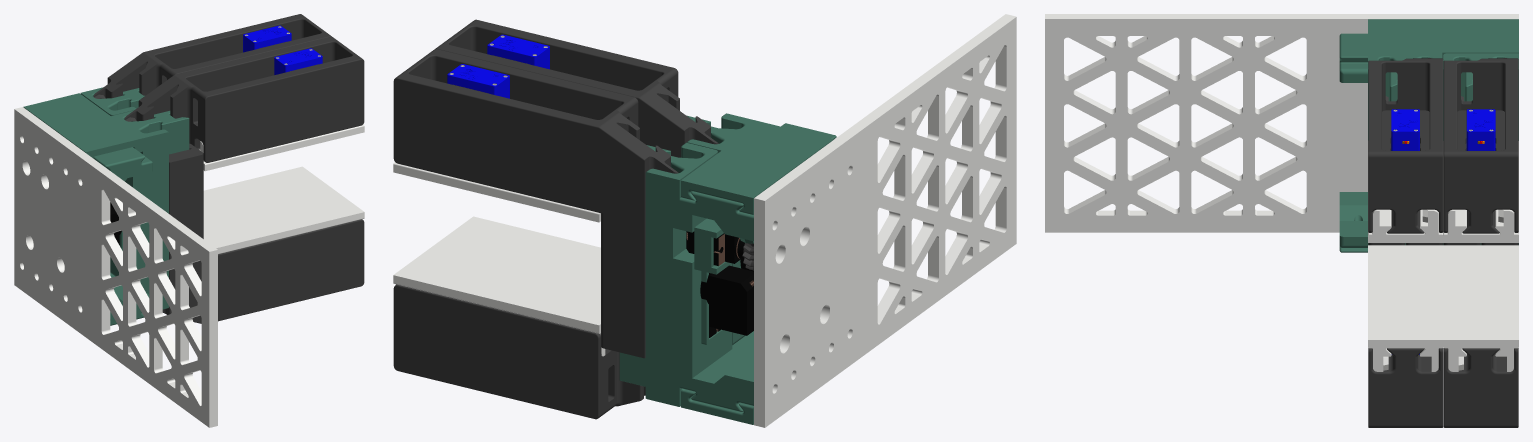
The model's file is gripper.glb.
The picture shows the model from 3 angles, left to right: view 1: azimuth 30°, elevation 25°; view 2: azimuth 150°, elevation 25°; view 3: azimuth 270°, elevation 25°; orthographic projection. The views are drawn at different scales.
Visible parts, largest first — view 1: Component67:1 (×3), Backplate + Wiring & Camera Mount:1, Component110:1, finger tip:3, finger tip:1, Bottom Gripper Rail:1, SG90 - Micro Servo 9g - Tower Pro.1_Pea:1 (×2), finger tip:4; view 2: Component67:1 (×3), Backplate + Wiring & Camera Mount:1, Bottom Gripper Rail:1, Component110:1, finger tip:1, finger tip:3, ServoBody:1 (×2), SG90 - Micro Servo 9g - Tower Pro.1_Pea:1 (×2), finger tip:2; view 3: Backplate + Wiring & Camera Mount:1, Component67:1 (×4), finger tip:3, finger tip:1, Component110:1, Bottom Gripper Rail:1, SG90 - Micro Servo 9g - Tower Pro.1_Pea:1 (×2), finger tip:2, finger tip:4.
Part boxes in pixels (left/top/right/bottom): Component67:1 (×3): left=93, top=14, right=364, bottom=323; Backplate + Wiring & Camera Mount:1: left=14, top=107, right=217, bottom=427; Component110:1: left=23, top=93, right=189, bottom=312; finger tip:3: left=203, top=189, right=364, bottom=254; finger tip:1: left=203, top=166, right=332, bottom=220; Bottom Gripper Rail:1: left=80, top=87, right=152, bottom=325; SG90 - Micro Servo 9g - Tower Pro.1_Pea:1 (×2): left=243, top=25, right=322, bottom=74; finger tip:4: left=199, top=124, right=364, bottom=171; Component67:1 (×3): left=393, top=19, right=718, bottom=419; Backplate + Wiring & Camera Mount:1: left=754, top=14, right=1016, bottom=427; Bottom Gripper Rail:1: left=619, top=123, right=836, bottom=411; Component110:1: left=681, top=113, right=833, bottom=424; finger tip:1: left=393, top=246, right=605, bottom=356; finger tip:3: left=433, top=216, right=600, bottom=286; ServoBody:1 (×2): left=686, top=231, right=753, bottom=337; SG90 - Micro Servo 9g - Tower Pro.1_Pea:1 (×2): left=447, top=34, right=549, bottom=98; finger tip:2: left=393, top=162, right=600, bottom=222; Backplate + Wiring & Camera Mount:1: left=1045, top=14, right=1518, bottom=232; Component67:1 (×4): left=1368, top=58, right=1518, bottom=427; finger tip:3: left=1368, top=245, right=1443, bottom=371; finger tip:1: left=1443, top=245, right=1518, bottom=371; Component110:1: left=1368, top=19, right=1518, bottom=245; Bottom Gripper Rail:1: left=1339, top=33, right=1518, bottom=252; SG90 - Micro Servo 9g - Tower Pro.1_Pea:1 (×2): left=1391, top=109, right=1495, bottom=150; finger tip:2: left=1443, top=141, right=1518, bottom=242; finger tip:4: left=1368, top=141, right=1443, bottom=242.
Size of the model in its own units: 0.1714 by 0.1323 by 0.201.
